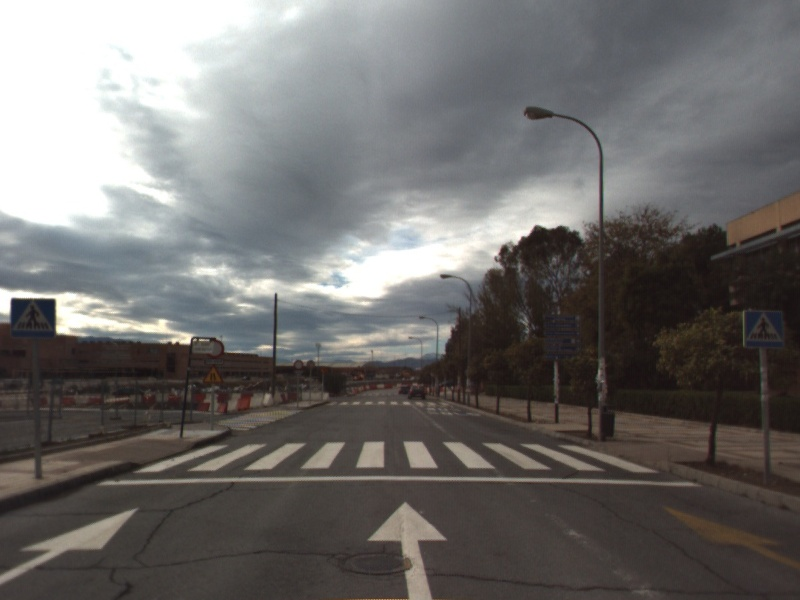STRAIGHT: (1, 502, 143, 586), (659, 503, 800, 570), (364, 497, 451, 600)
